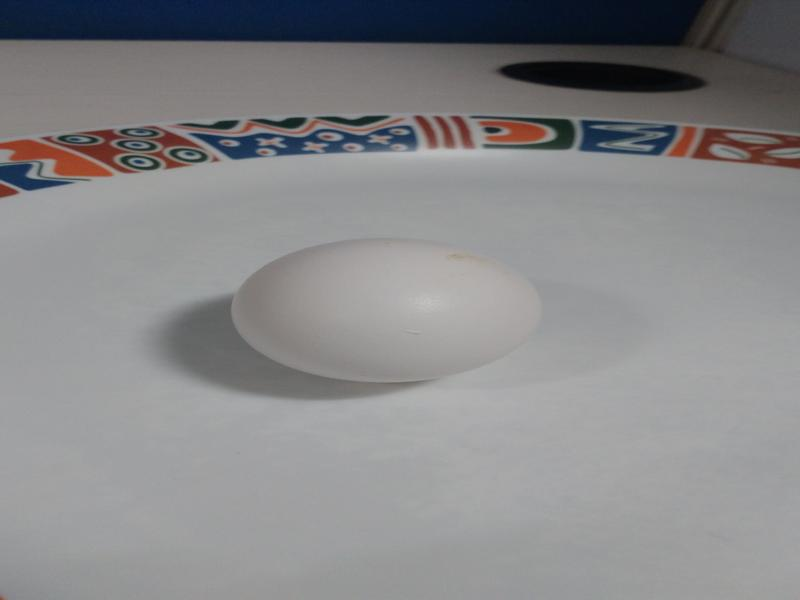egg: (230, 230, 544, 391)
